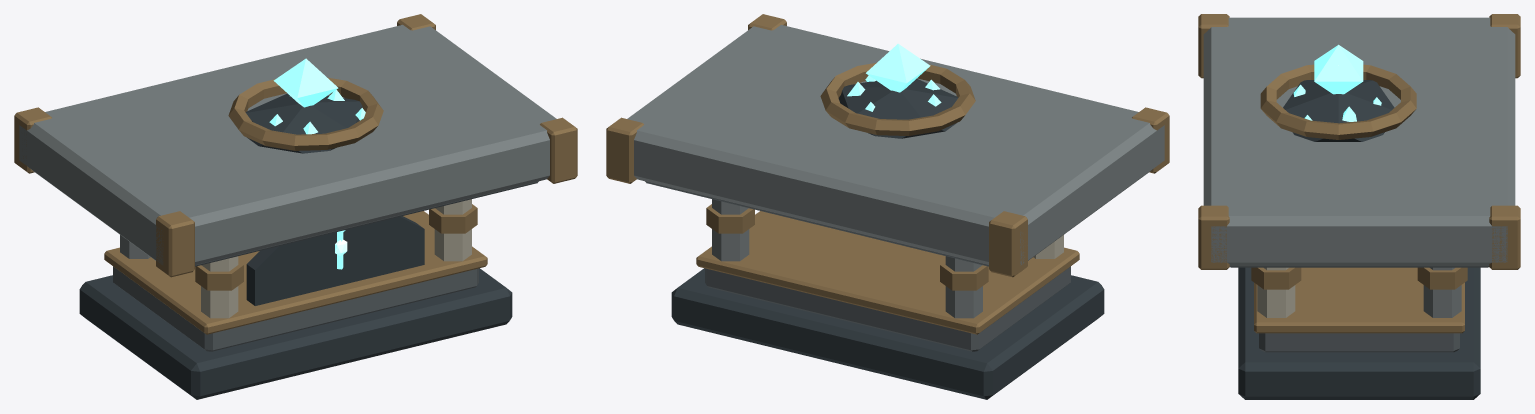
Rendered from warden_soul_altar.glb.
The picture shows the model from 3 angles, left to right: view 1: azimuth 30°, elevation 25°; view 2: azimuth 150°, elevation 25°; view 3: azimuth 270°, elevation 25°; orthographic projection. The views are drawn at different scales.
Visible parts, largest first — view 1: warden_soul_altar; view 2: warden_soul_altar; view 3: warden_soul_altar.
Boxes of the visible parts, bbox=[...] form: warden_soul_altar: bbox=[14, 14, 577, 399]; warden_soul_altar: bbox=[606, 14, 1169, 399]; warden_soul_altar: bbox=[1198, 14, 1520, 399].
Size of the model in its own units: 1.4 by 0.885 by 0.93.
